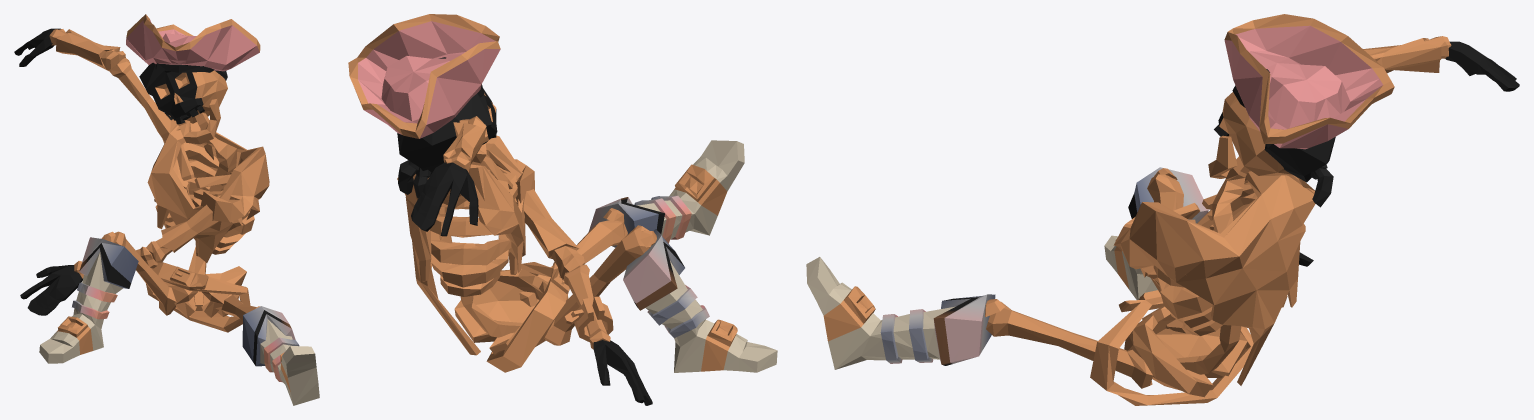
File: SM_Prop_Skeleton_Chest_02.glb
The picture shows the model from 3 angles, left to right: view 1: azimuth 30°, elevation 25°; view 2: azimuth 150°, elevation 25°; view 3: azimuth 270°, elevation 25°; orthographic projection. The views are drawn at different scales.
Parts seen in each view (by area): view 1: SM_Prop_Skeleton_Chest_02_00; view 2: SM_Prop_Skeleton_Chest_02_00; view 3: SM_Prop_Skeleton_Chest_02_00.
Boxes of the visible parts, <box> form: SM_Prop_Skeleton_Chest_02_00: <box>14,14,319,405</box>; SM_Prop_Skeleton_Chest_02_00: <box>348,14,777,405</box>; SM_Prop_Skeleton_Chest_02_00: <box>806,14,1519,405</box>.
Size of the model in its own units: 1.1 by 1.09 by 1.83.
1 material, 1 textured.
